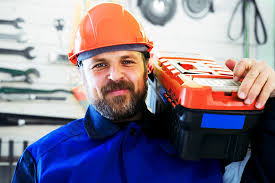Person_wearing_helmet: (71, 0, 152, 76)
